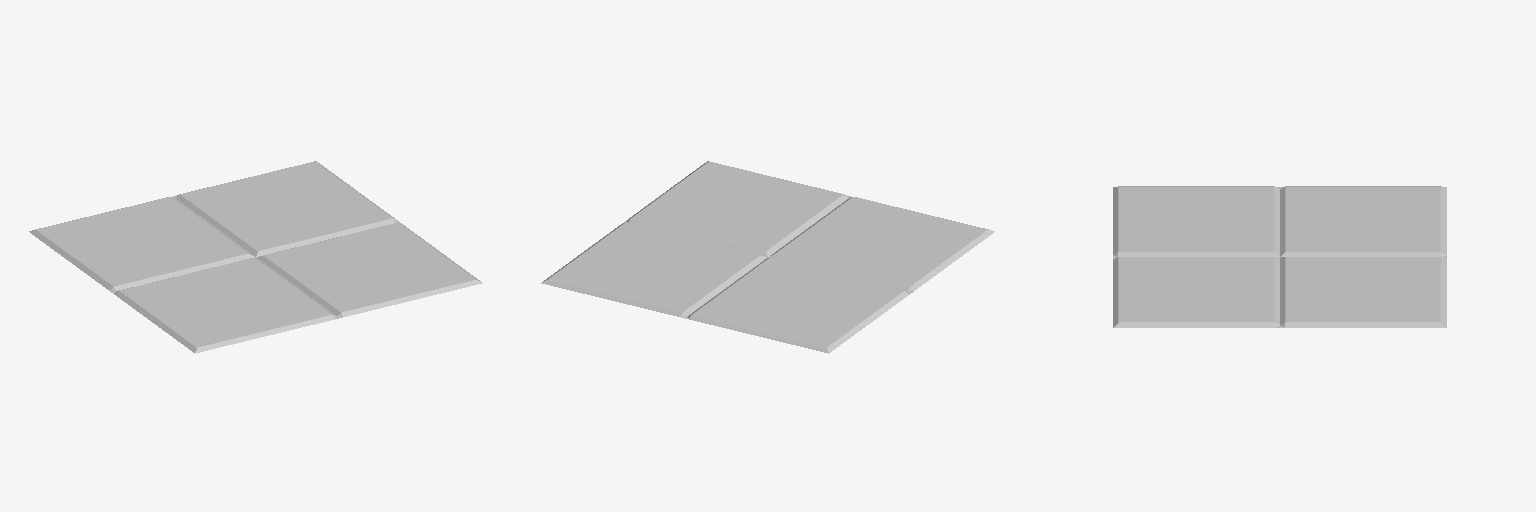
File: Pavimento2x2.obj
3 views of the same model, side by side, from view 1: azimuth 30°, elevation 25°; view 2: azimuth 150°, elevation 25°; view 3: azimuth 270°, elevation 25° (orthographic).
Visible parts, largest first — view 1: Pavimento2x2; view 2: Pavimento2x2; view 3: Pavimento2x2.
Boxes of the visible parts, x1,y1,x2,y2 form: Pavimento2x2: [29, 161, 482, 353]; Pavimento2x2: [541, 161, 994, 353]; Pavimento2x2: [1113, 186, 1446, 327].
Size of the model in its own units: 2 by 0.0201 by 2.